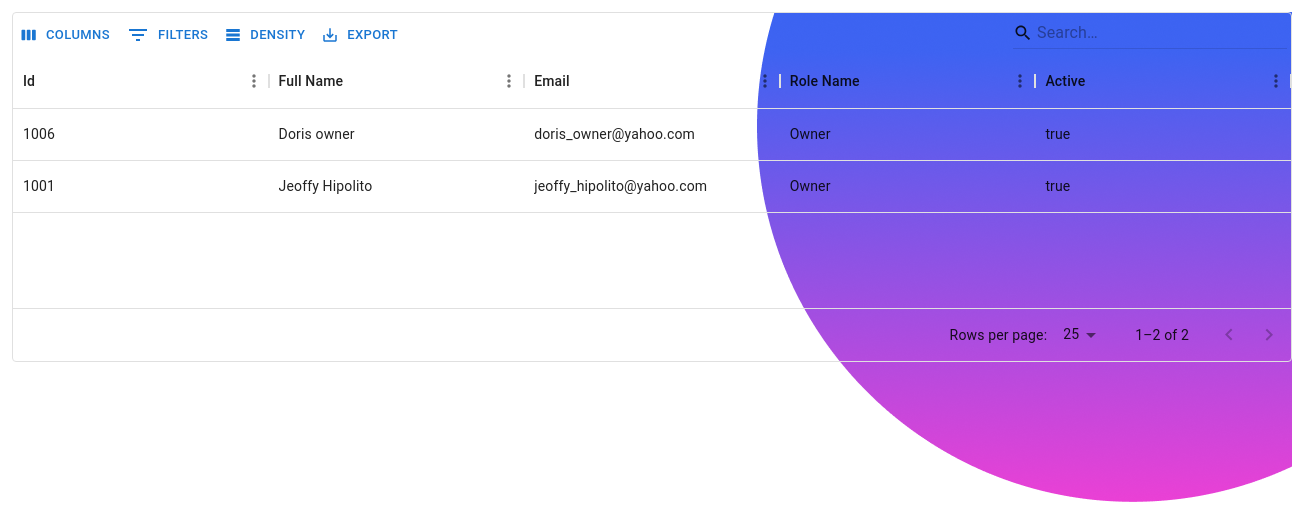
Scenario: Row Grid click on any users for edit and delete
The image size is (1304, 519).
Click the cell "Doris owner": (396, 135) [269, 109, 524, 161]
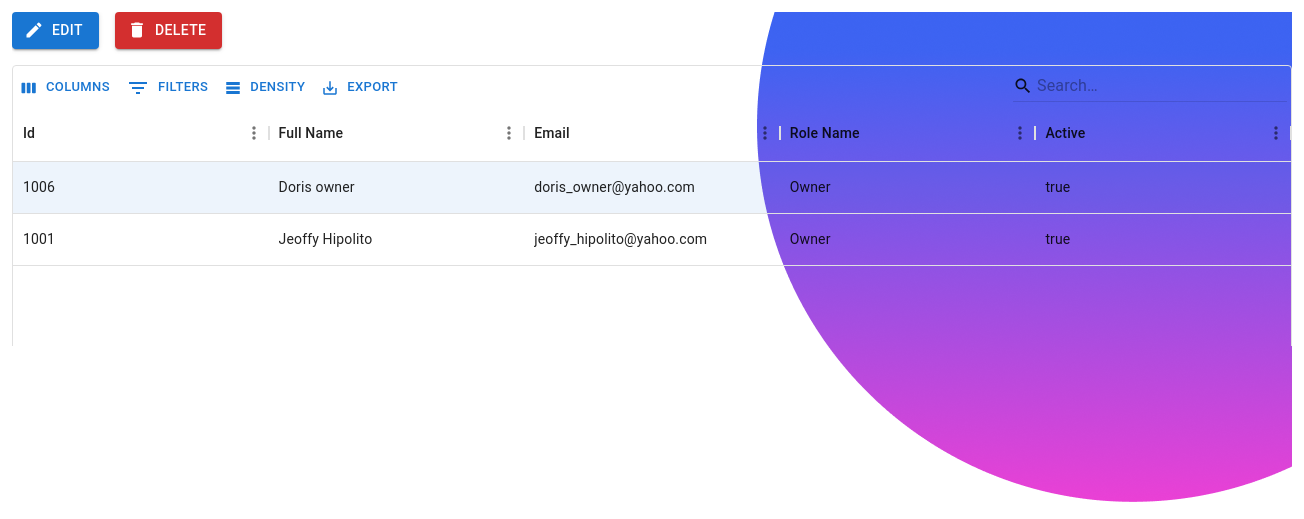
Expected: the button "Edit" is shown, [12, 12, 99, 48]
Expected: the button "Delete" is shown, [115, 12, 222, 48]
